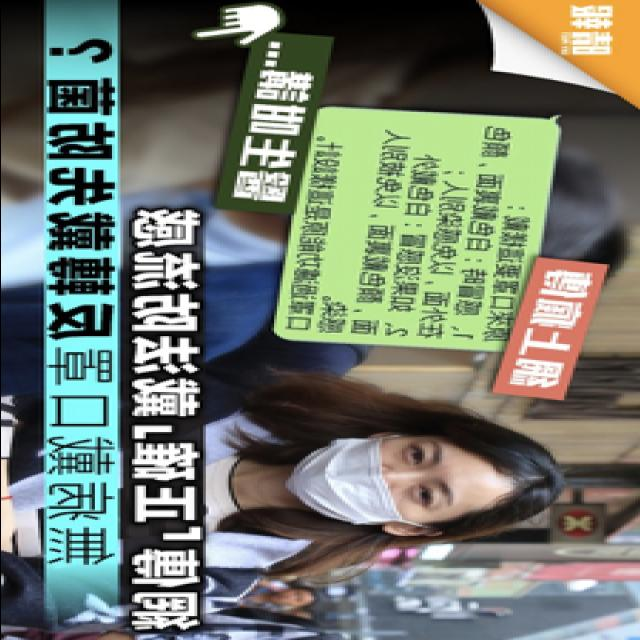with_mask: (278, 435, 464, 533)
